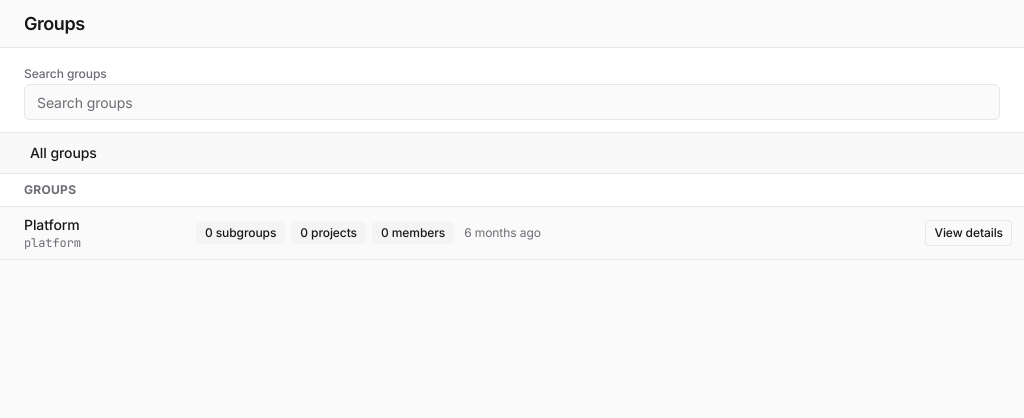
Test: GroupListPage › shows the empty state when a search matches nothing
The image size is (1024, 418).
Expected: the number of rows with test id "groups-row" is 1, left=0, top=206, right=1023, bottom=260
Type "nonexistent" into the field with test id "groups-search" at (512, 102), box left=24, top=84, right=1000, bottom=120
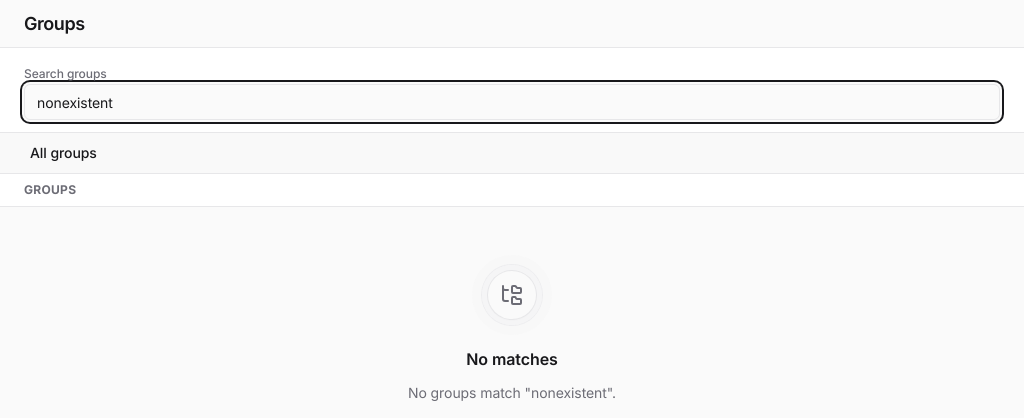
Expected: the message "No matches No groups match \"nonexistent\"." is shown, left=408, top=255, right=616, bottom=401
